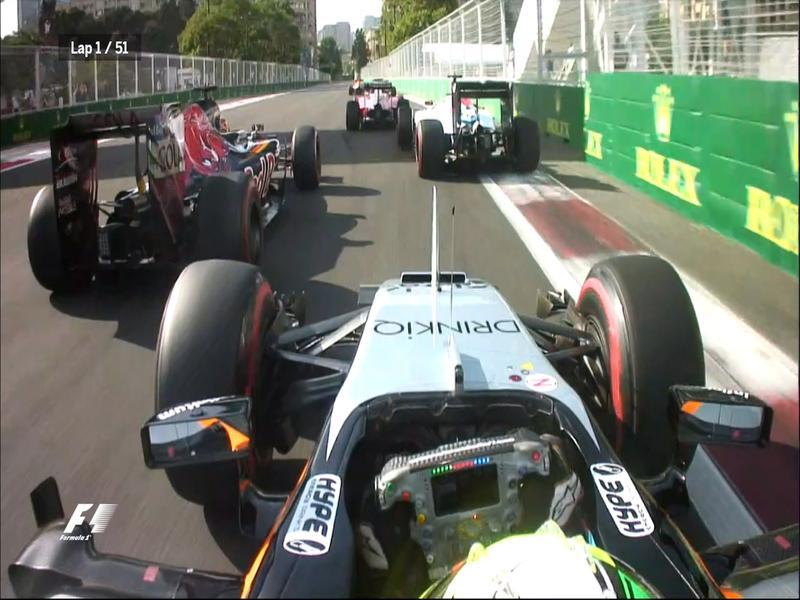racecar: (35, 65, 327, 263), (403, 79, 548, 183), (342, 64, 415, 135)
